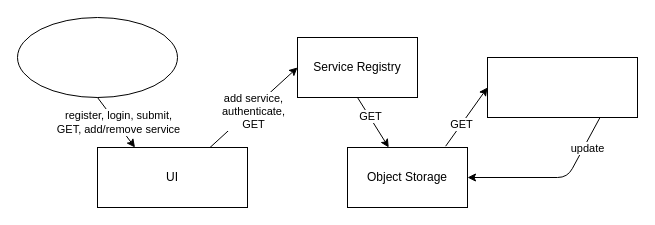
The diagram is 655 pixels wide and 225 high, and some of its shapes have lost their labels. Each missing label, with the centre of its shape:
"twelvedata API" goes at [562,87].
"User" goes at [97,57].
